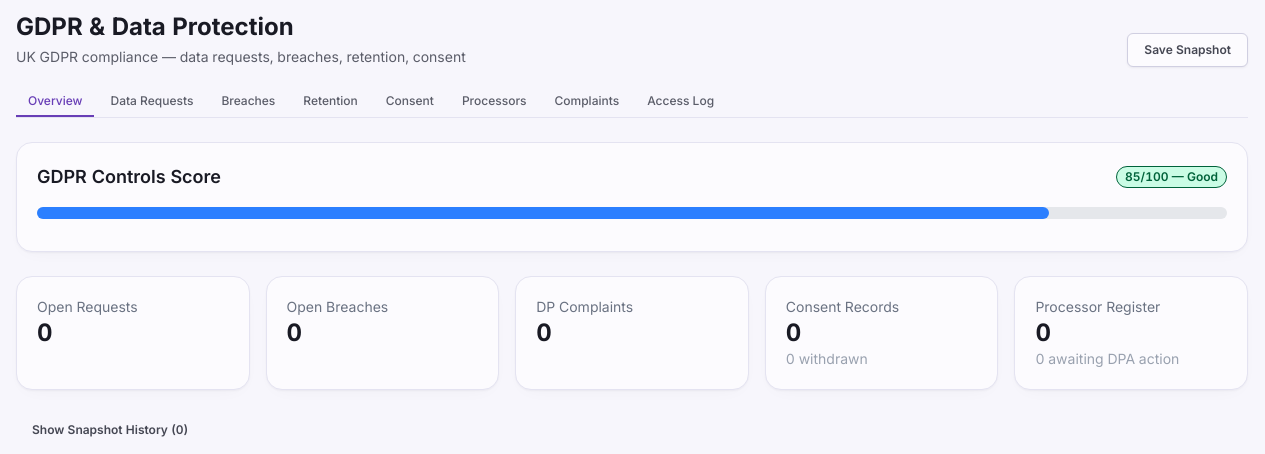
it: GdprDashboard › switches to Data Requests tab and shows empty state
Click the tab "Data Requests". click: (152, 102)
box: [98,87,205,117]
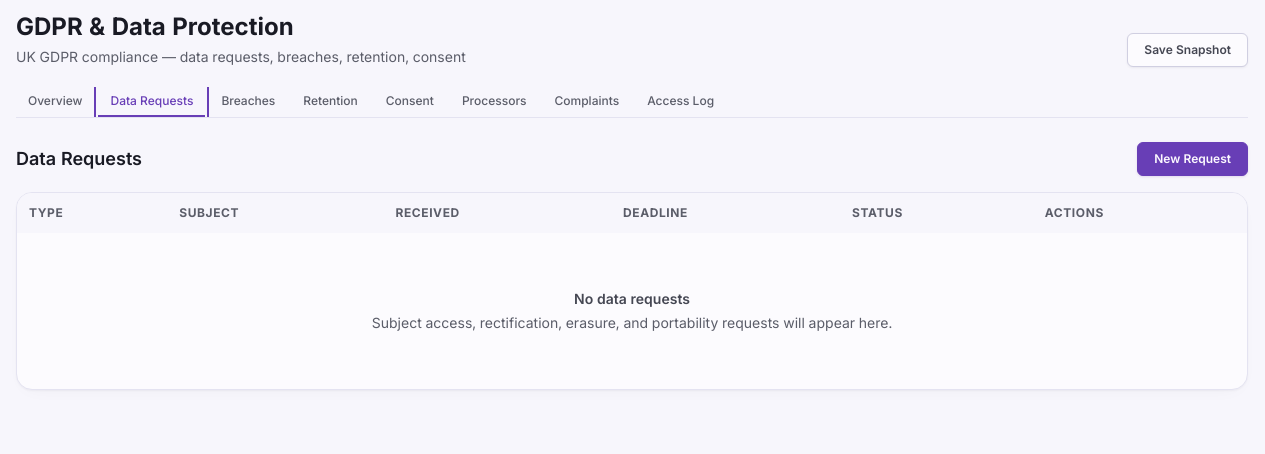
Expected: the text "No data requests" is shown, [574,290,690,307]
